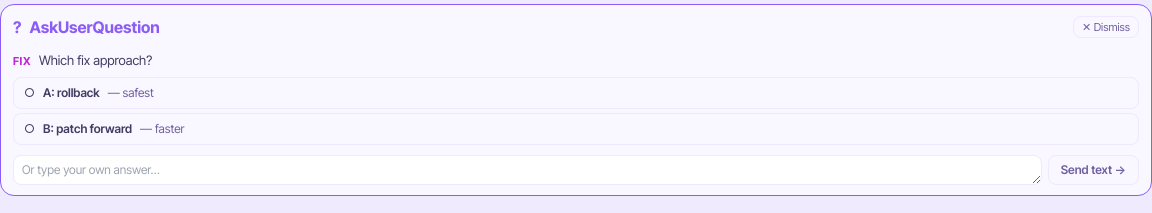
Test: AskUserQuestionInline — ✕ Dismiss escape hatch (v2.15.8) › clicking Dismiss when interactive ALSO sends empty answer + closes
Click the button "✕ Dismiss" at (1106, 27), box [1073,16,1139,38]
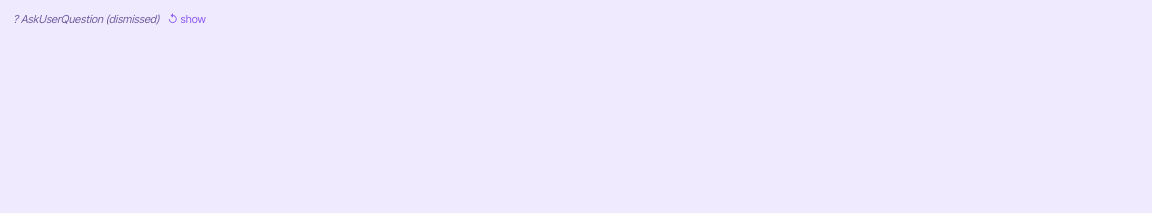
Check: the text "FIX" is gone
